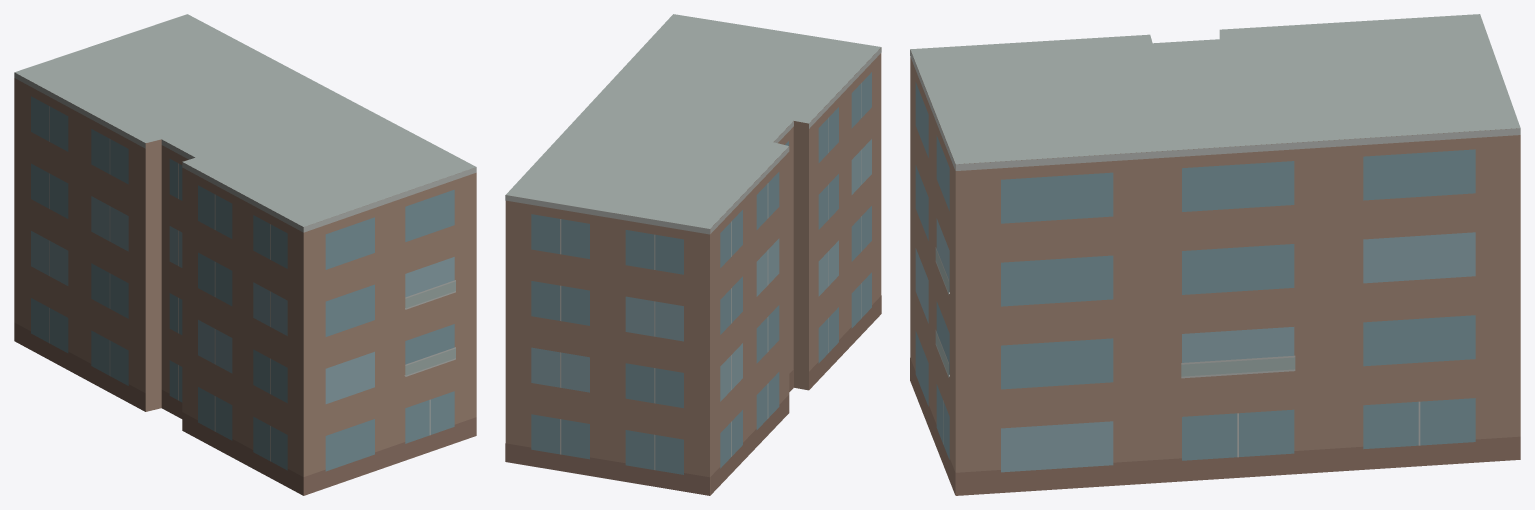
Rendered from survey-upis-32579765.glb.
3 views of the same model, side by side, from view 1: azimuth 30°, elevation 25°; view 2: azimuth 150°, elevation 25°; view 3: azimuth 270°, elevation 25° (orthographic). The views are drawn at different scales.
Parts seen in each view (by area): view 1: survey-upis-32579765.tmp; view 2: survey-upis-32579765.tmp; view 3: survey-upis-32579765.tmp.
Part boxes in pixels (bbox=[...]): survey-upis-32579765.tmp: bbox=[14, 14, 476, 495]; survey-upis-32579765.tmp: bbox=[505, 14, 881, 495]; survey-upis-32579765.tmp: bbox=[910, 14, 1520, 495].
Bounding box in the file's own units: 11.48 × 11.8 × 19.7.
